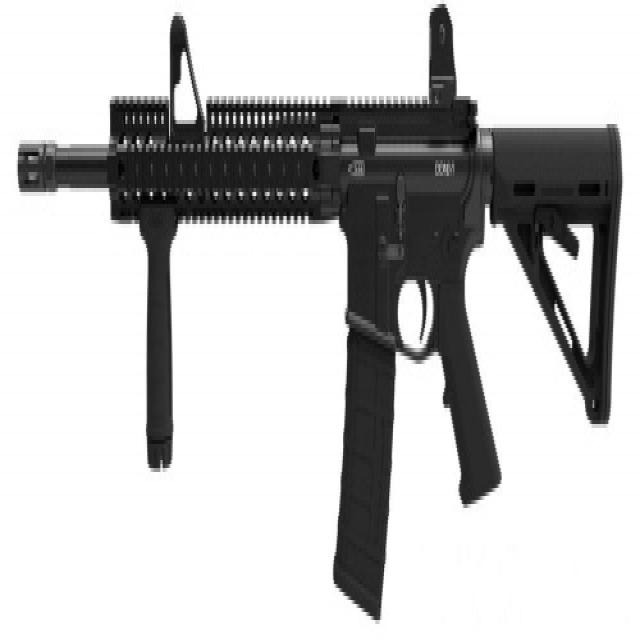rifle: (12, 1, 630, 640)
